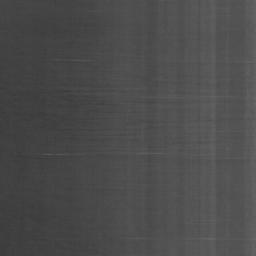Waist folding: (146, 93, 256, 123), (57, 236, 145, 256), (173, 141, 256, 161), (23, 151, 163, 157), (57, 86, 116, 97), (186, 60, 256, 64), (127, 119, 162, 127), (200, 236, 256, 241), (54, 57, 91, 63)
